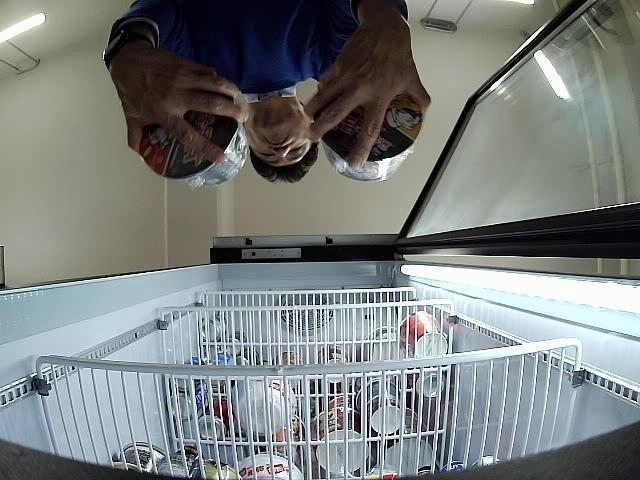07_buldak_L: (140, 77, 249, 186), (315, 95, 424, 181)
